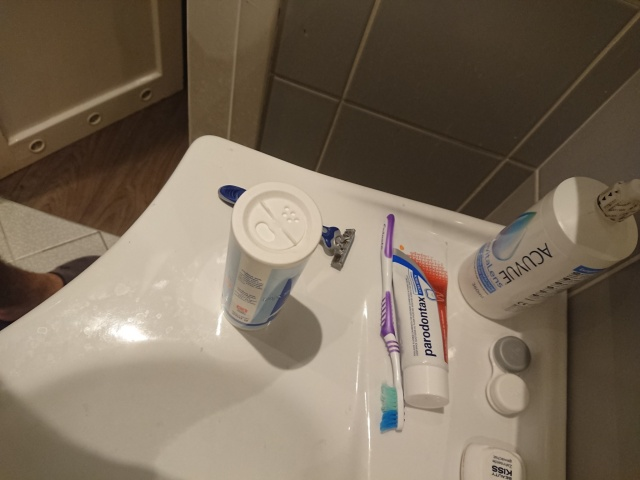Solana Pag Fine Sea Salt 250g: (219, 180, 325, 334)
